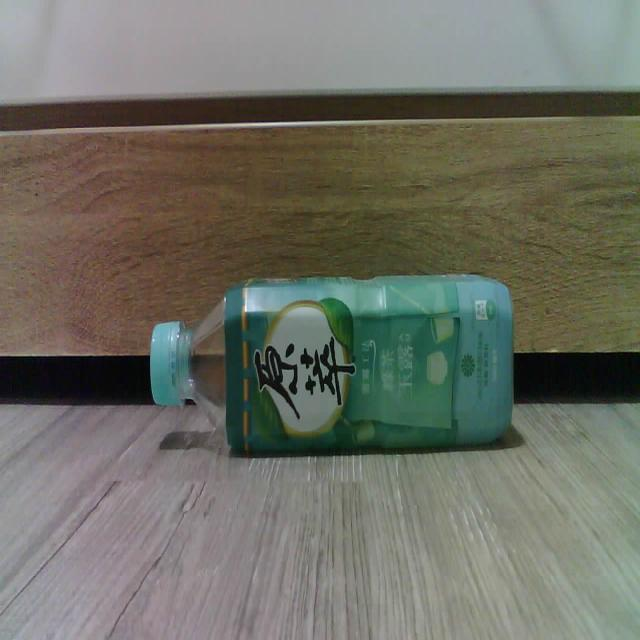bottle: (150, 275, 512, 452)
